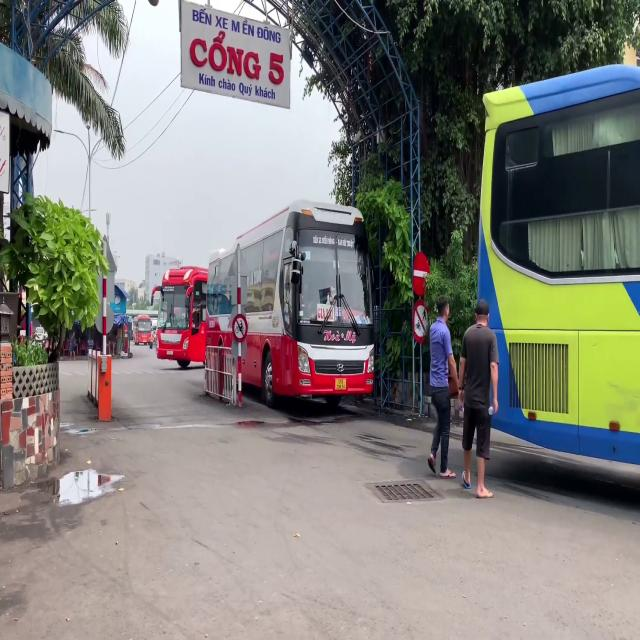bien_vang: (335, 377, 347, 391)
